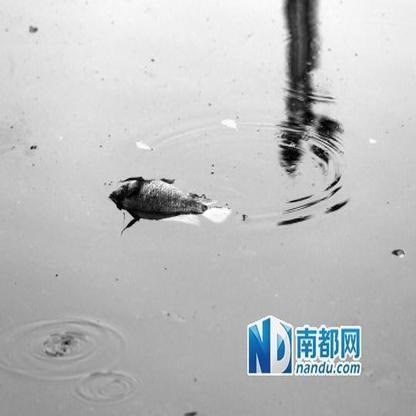deceased fish: (108, 176, 223, 226)
